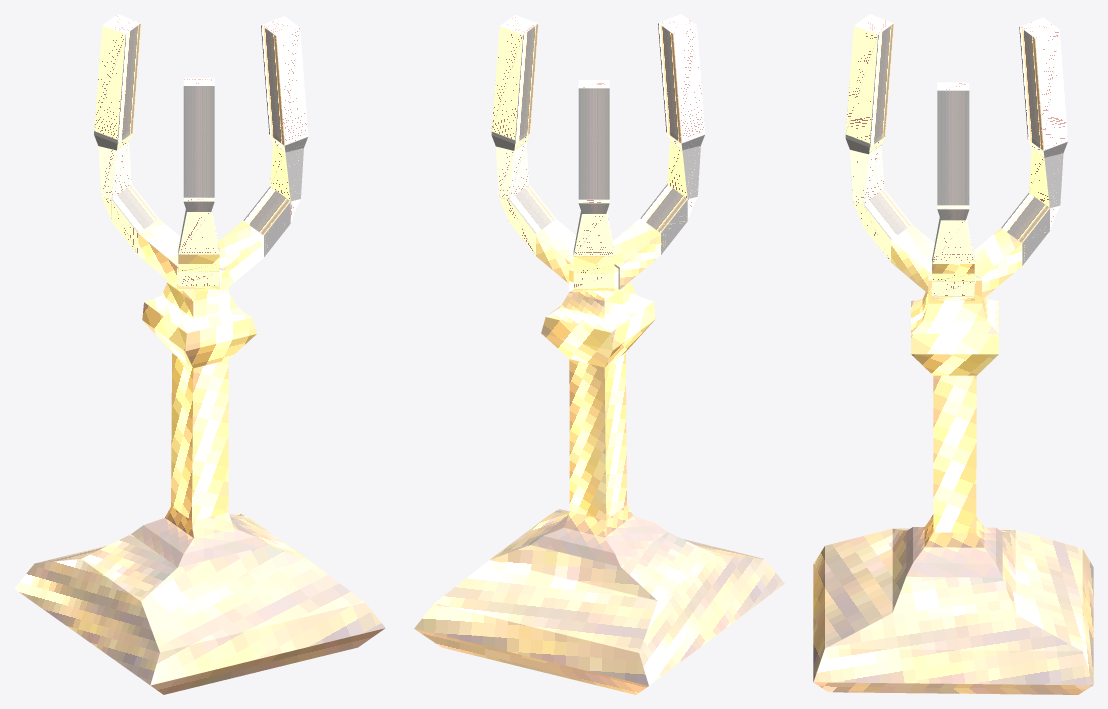
The model's file is trik.glb.
3 renders of one model, left to right at view 1: azimuth 30°, elevation 25°; view 2: azimuth 150°, elevation 25°; view 3: azimuth 270°, elevation 25°, orthographic. The views are drawn at different scales.
Visible parts, largest first — view 1: Cube.003; view 2: Cube.003; view 3: Cube.003.
Boxes of the visible parts, box(x1,y1,x2,y2) form: Cube.003: box(14, 14, 385, 694); Cube.003: box(414, 14, 784, 694); Cube.003: box(813, 14, 1093, 694).
Bounding box in the file's own units: 1.69 × 4.17 × 1.69.
